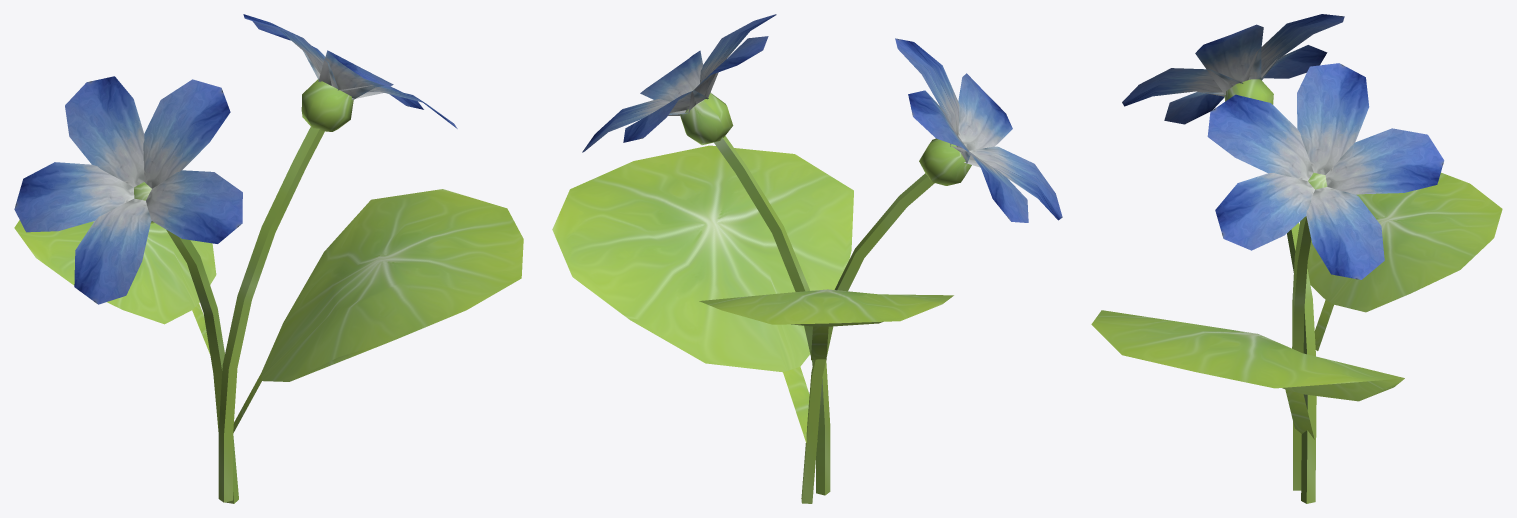
Rendered from blueFlowers.fbx.
The picture shows the model from 3 angles, left to right: view 1: azimuth 30°, elevation 25°; view 2: azimuth 150°, elevation 25°; view 3: azimuth 270°, elevation 25°; orthographic projection. The views are drawn at different scales.
Parts seen in each view (by area): view 1: lil_round_leaf3; view 2: lil_round_leaf3; view 3: lil_round_leaf3.
Part boxes in pixels (<box>): lil_round_leaf3: <box>14,14,523,503</box>; lil_round_leaf3: <box>552,14,1062,503</box>; lil_round_leaf3: <box>1091,14,1502,503</box>.
Bounding box in the file's own units: 10.33 × 9.69 × 7.96.
1 material, 1 textured.
